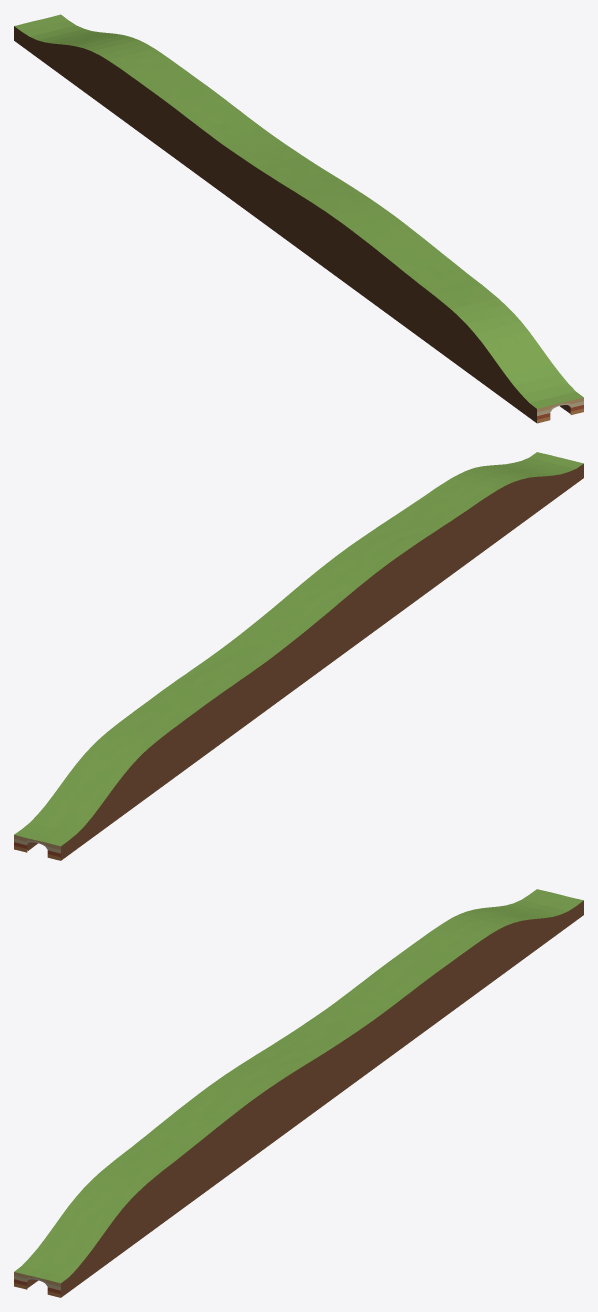
File: tunel_26k.glb
The picture shows the model from 3 angles, top to bottom: view 1: azimuth 30°, elevation 25°; view 2: azimuth 150°, elevation 25°; view 3: azimuth 330°, elevation 25°; orthographic projection.
Parts seen in each view (by area): view 1: tunel_26k; view 2: tunel_26k; view 3: tunel_26k.
Boxes of the visible parts, box(x1,y1,x2,y2) form: tunel_26k: box(14, 14, 583, 423); tunel_26k: box(14, 452, 583, 860); tunel_26k: box(14, 889, 583, 1297).
Bounding box in the file's own units: 84 × 98.47 × 1622.
